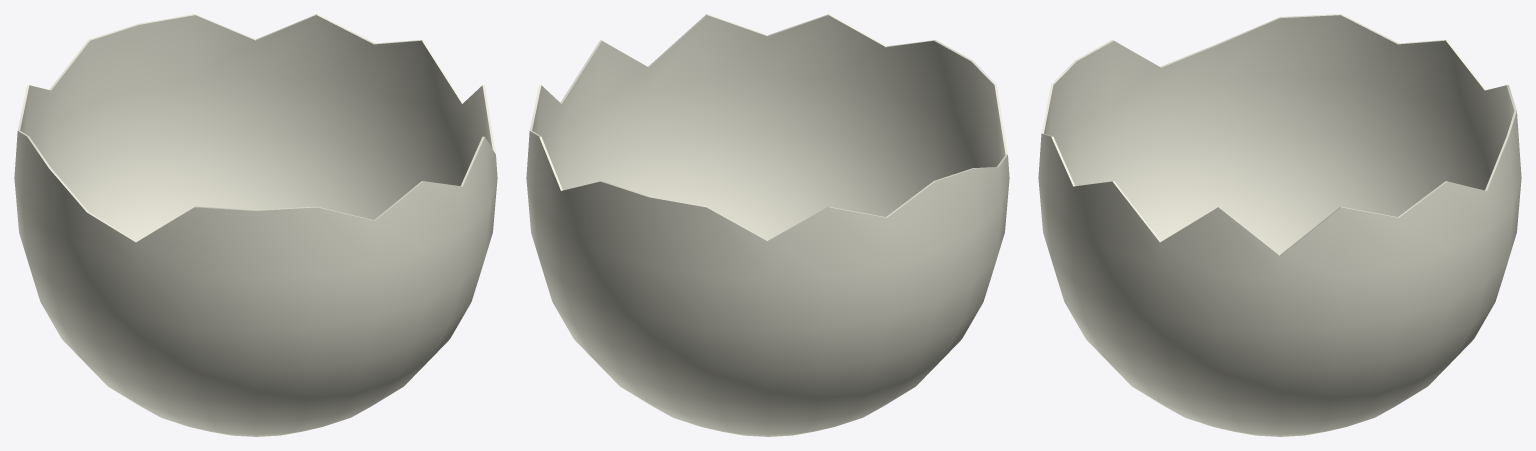
File: Huevon_04.fbx
The picture shows the model from 3 angles, left to right: view 1: azimuth 30°, elevation 25°; view 2: azimuth 150°, elevation 25°; view 3: azimuth 270°, elevation 25°; orthographic projection.
Visible parts, largest first — view 1: Huevon_04; view 2: Huevon_04; view 3: Huevon_04.
Boxes of the visible parts, x1,y1,x2,y2 form: Huevon_04: (14, 14, 497, 436); Huevon_04: (526, 14, 1009, 436); Huevon_04: (1038, 14, 1521, 436).
Size of the model in its own units: 16.21 by 11.25 by 16.21.
